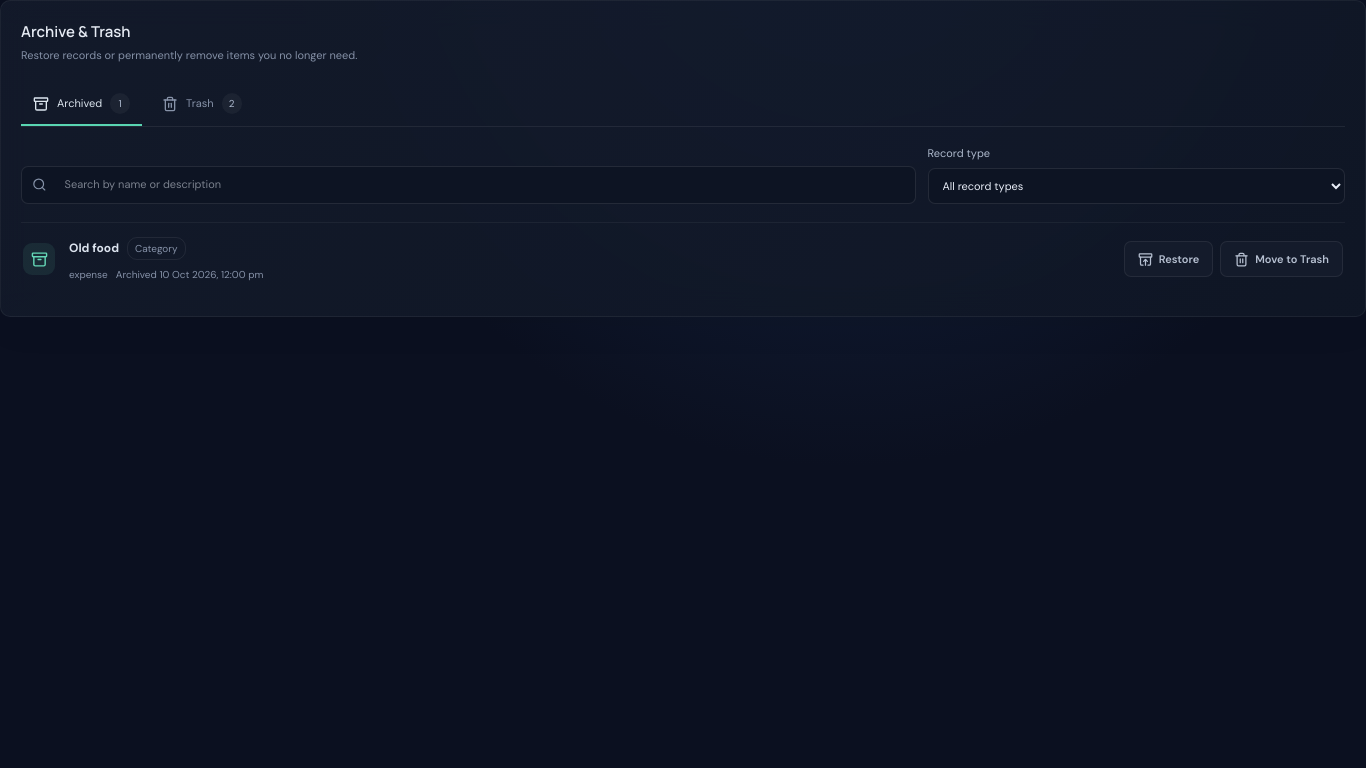
Test: AI proposal confirmation › Archive & Trash › requires confirmation for permanent deletion and reports action errors
This screenshot has width=1366, height=768.
Click the tab "Trash 2" at [202, 104], box top-left (150, 83), bottom-right (254, 126)
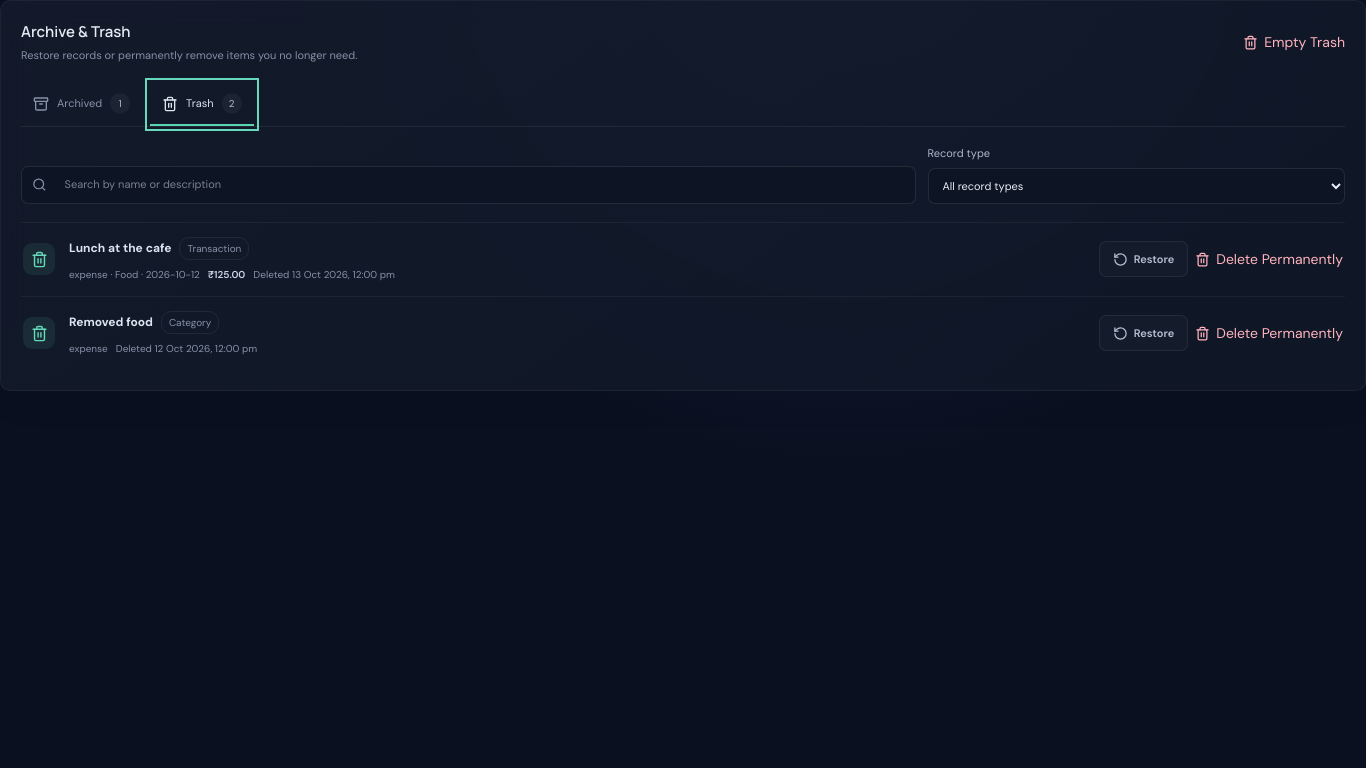
Click the button "Delete Permanently" in the row of "12 Oct 2026, 12:00 pm" at [1269, 333], box top-left (1195, 315), bottom-right (1343, 351)
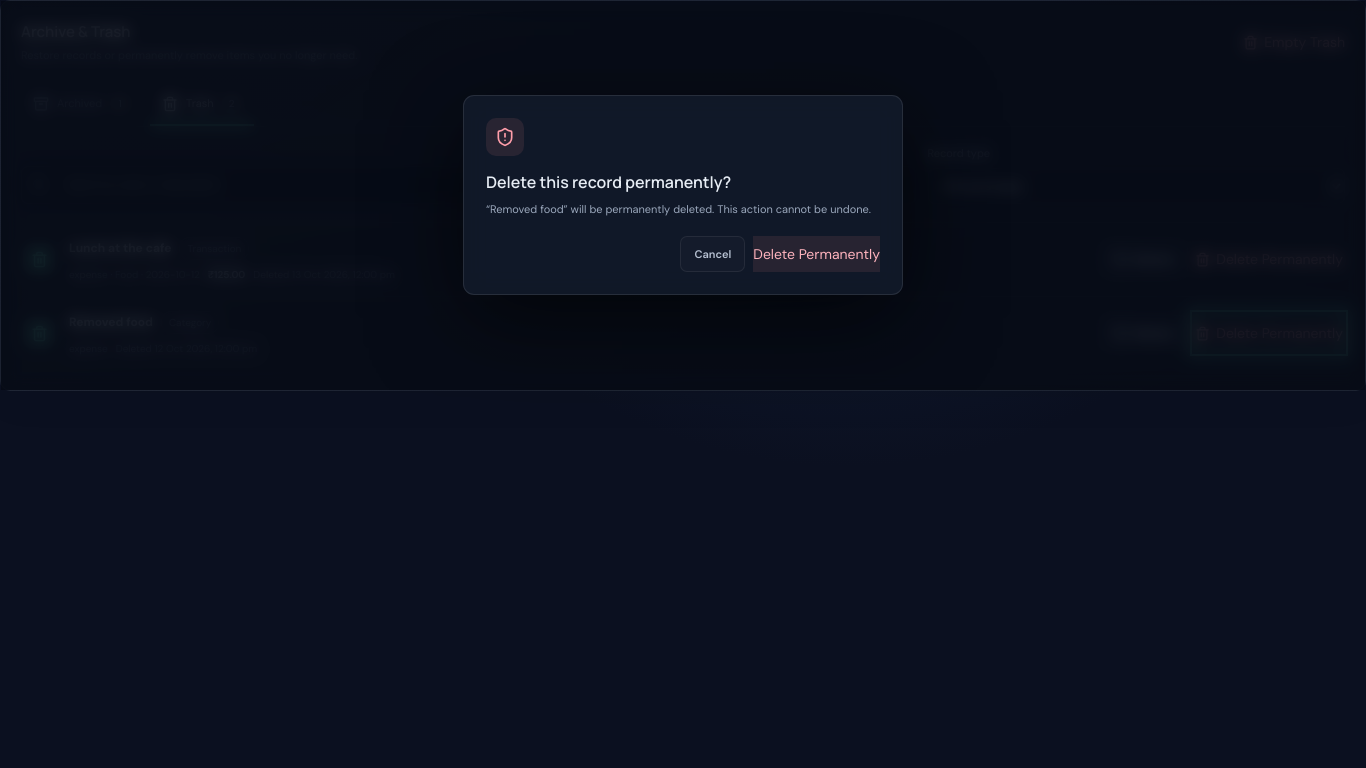
Click the button with class "danger-button" showing "Delete Permanently" at [817, 254], box top-left (753, 236), bottom-right (880, 272)
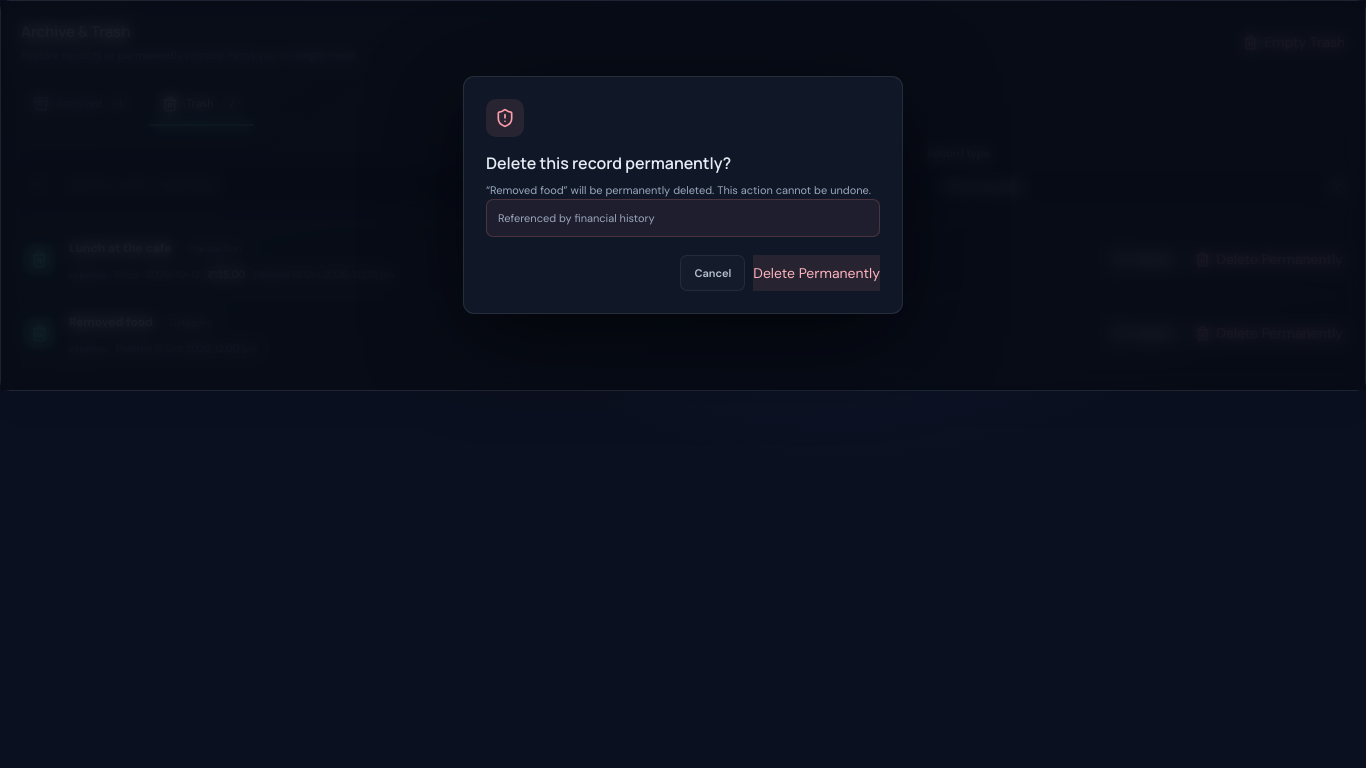
expect the text "Referenced by financial history" is shown: met, box top-left (486, 199), bottom-right (880, 237)
